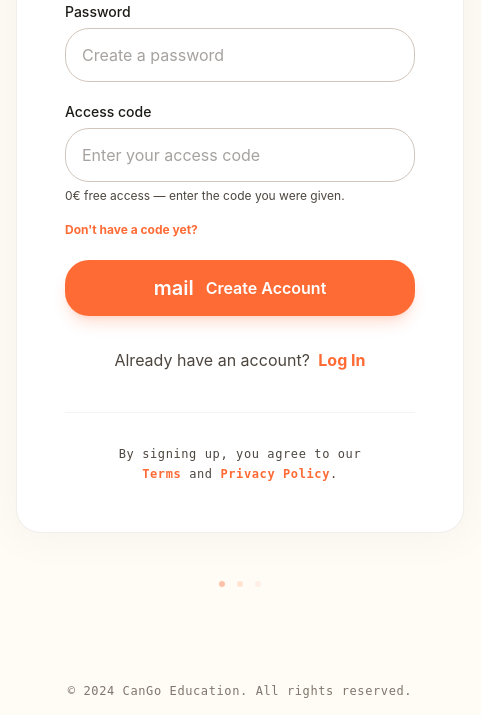
it: 01 — Auth Flow › shows error for invalid credentials on login
This screenshot has width=481, height=715.
(page scrolled)
Click the button "Log In": point(342, 360) [318,348,366,372]
(page scrolled)
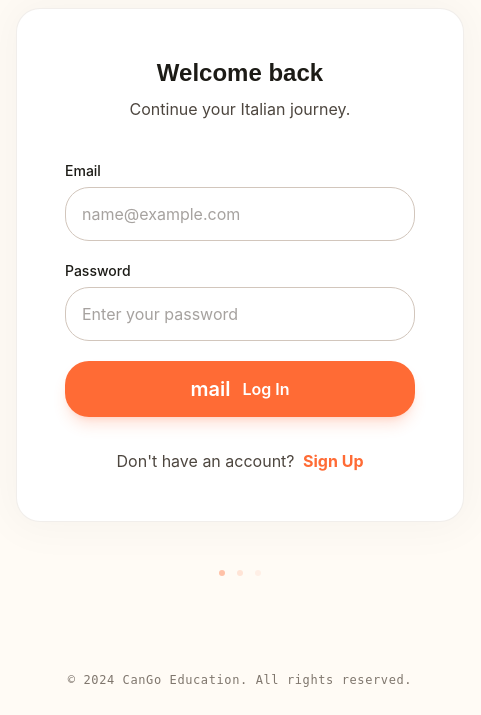
Result: the heading "Welcome back" is shown at [157,59,323,86]
In the field with placeholder "name@example.com": point(240, 214) [65,187,415,241], type "wrong@test.com"
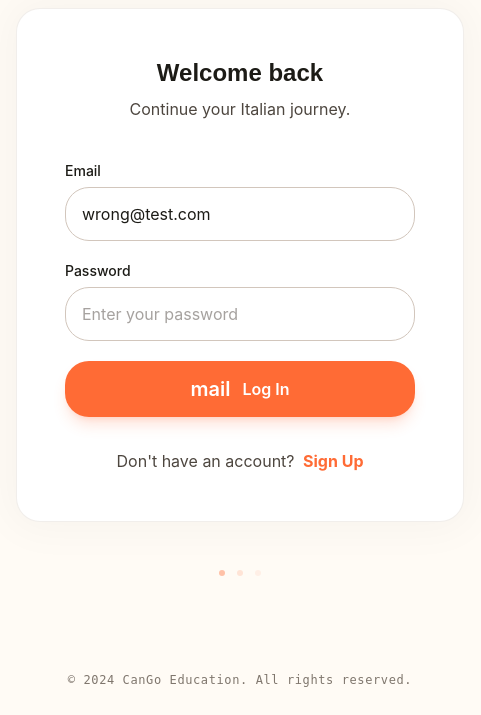
In the password field with placeholder "Enter your password": point(240, 314) [65,287,415,341], type "wrongpass"
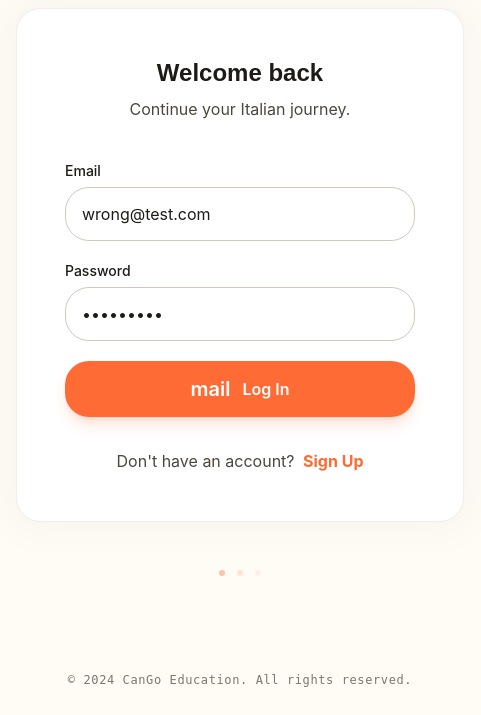
Click the text "Log In": point(266, 389) [242,377,290,401]
(page scrolled)
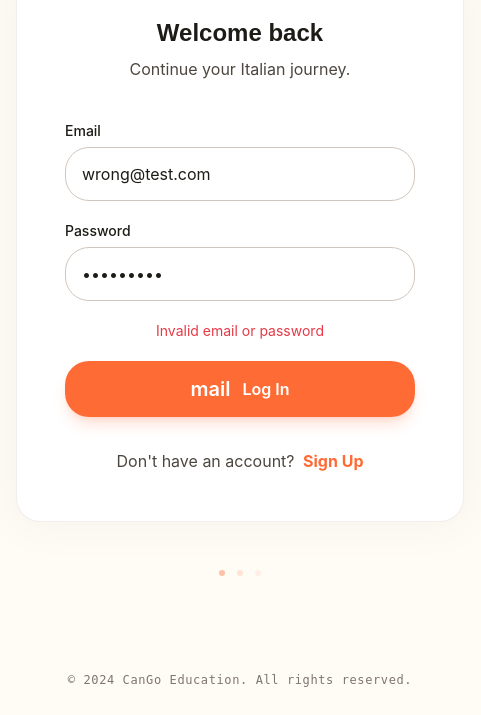
Result: the text "Invalid email or password" is shown at [156,322,324,339]
